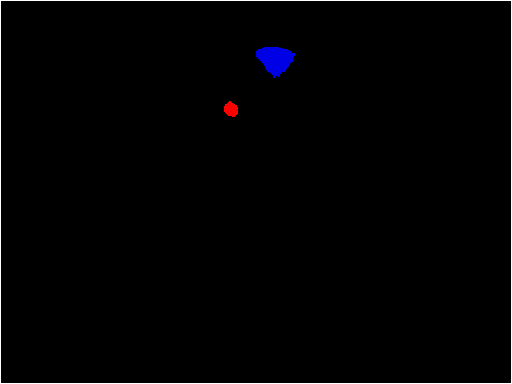chipped: (261, 52, 292, 70)
detached: (224, 100, 238, 116)
